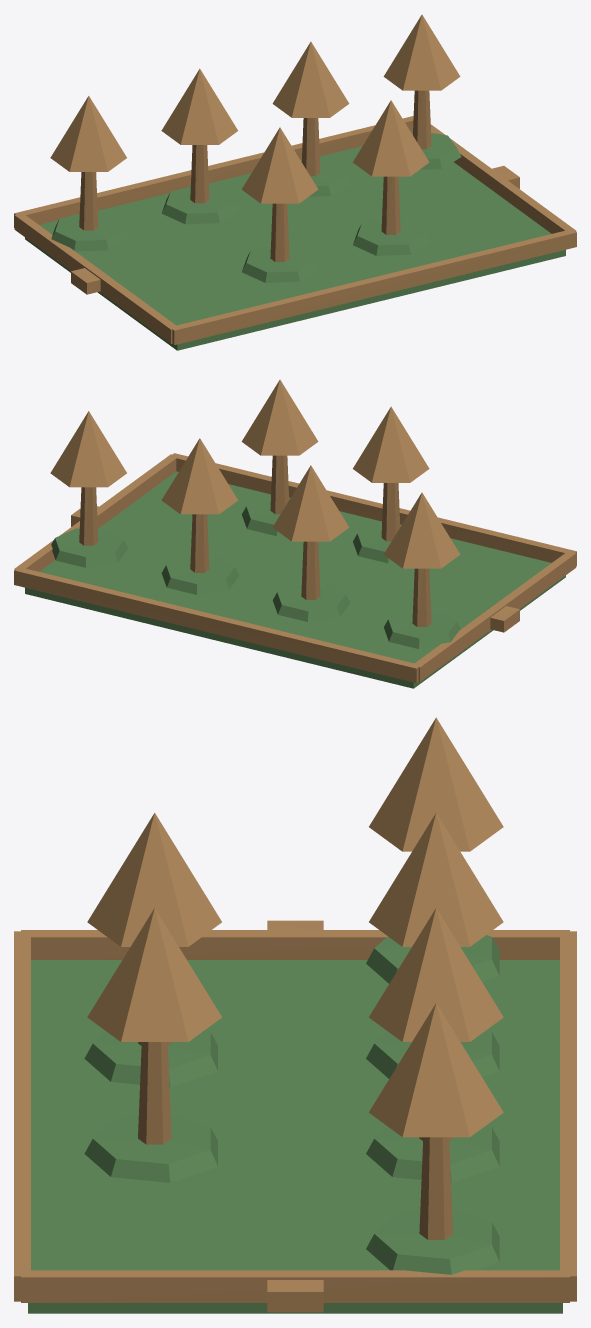
The model's file is orchard.source.glb.
3 renders of one model, top to bottom at view 1: azimuth 30°, elevation 25°; view 2: azimuth 150°, elevation 25°; view 3: azimuth 270°, elevation 25°, orthographic. The views are drawn at different scales.
Parts seen in each view (by area): view 1: orchard-soil-bed-mesh, orchard-canopy-mesh (×6), orchard-curb-mesh (×4), orchard-tree-berm-mesh (×6), orchard-trunk-mesh (×6), orchard-irrigation-in-mesh; view 2: orchard-soil-bed-mesh, orchard-canopy-mesh (×6), orchard-curb-mesh (×4), orchard-tree-berm-mesh (×6), orchard-trunk-mesh (×6), orchard-irrigation-in-mesh; view 3: orchard-soil-bed-mesh, orchard-canopy-mesh (×6), orchard-curb-mesh (×4), orchard-tree-berm-mesh (×6), orchard-trunk-mesh (×2), orchard-irrigation-out-mesh.
Boxes of the visible parts, x1=… form: orchard-soil-bed-mesh: x1=25, y1=146, x2=565, y2=350; orchard-canopy-mesh (×6): x1=50, y1=14, x2=460, y2=203; orchard-curb-mesh (×4): x1=14, y1=116, x2=576, y2=344; orchard-tree-berm-mesh (×6): x1=51, y1=132, x2=461, y2=282; orchard-trunk-mesh (×6): x1=79, y1=90, x2=431, y2=261; orchard-irrigation-in-mesh: x1=71, y1=268, x2=100, y2=294; orchard-soil-bed-mesh: x1=25, y1=471, x2=565, y2=688; orchard-canopy-mesh (×6): x1=50, y1=379, x2=460, y2=568; orchard-curb-mesh (×4): x1=14, y1=453, x2=576, y2=682; orchard-tree-berm-mesh (×6): x1=51, y1=497, x2=460, y2=648; orchard-trunk-mesh (×6): x1=79, y1=455, x2=431, y2=626; orchard-irrigation-in-mesh: x1=490, y1=606, x2=519, y2=632; orchard-soil-bed-mesh: x1=28, y1=960, x2=562, y2=1313; orchard-canopy-mesh (×6): x1=87, y1=717, x2=503, y2=1137; orchard-curb-mesh (×4): x1=14, y1=930, x2=576, y2=1302; orchard-tree-berm-mesh (×6): x1=84, y1=935, x2=499, y2=1274; orchard-trunk-mesh (×2): x1=138, y1=1042, x2=452, y2=1239; orchard-irrigation-out-mesh: x1=267, y1=1280, x2=323, y2=1312.
Bounding box in the file's own units: 3.12 × 1.13 × 2.
